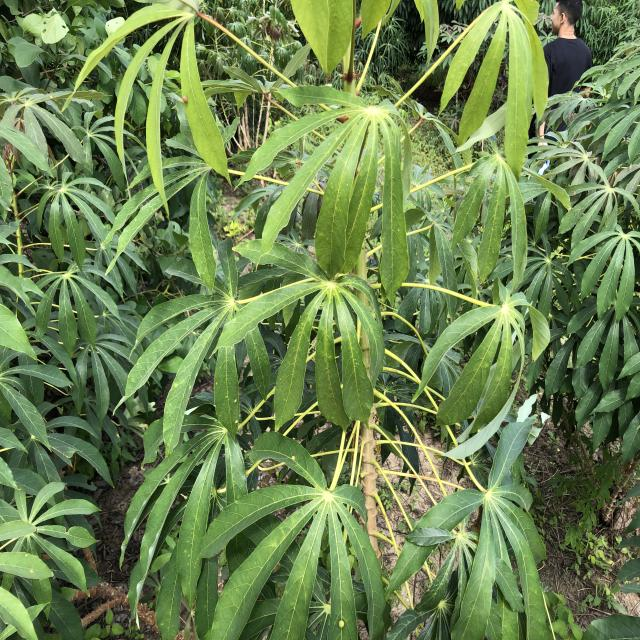Mosca: (286, 450, 302, 468), (231, 410, 244, 429), (334, 618, 347, 635), (230, 393, 243, 403)
